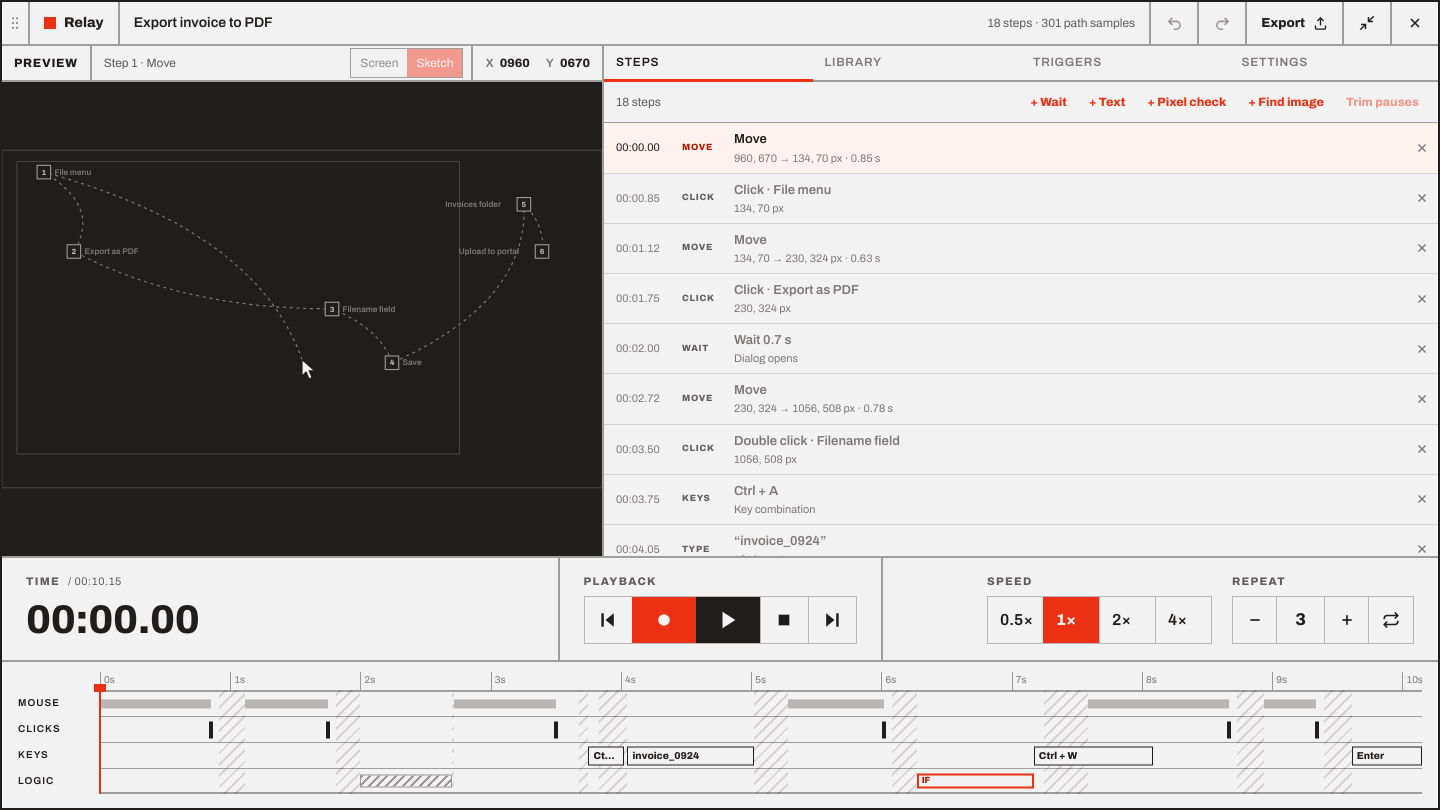
Test: Widget › switches between expanded and compact
Click the button named "Compact player".
click(1366, 23)  # box [1342,2,1390,44]
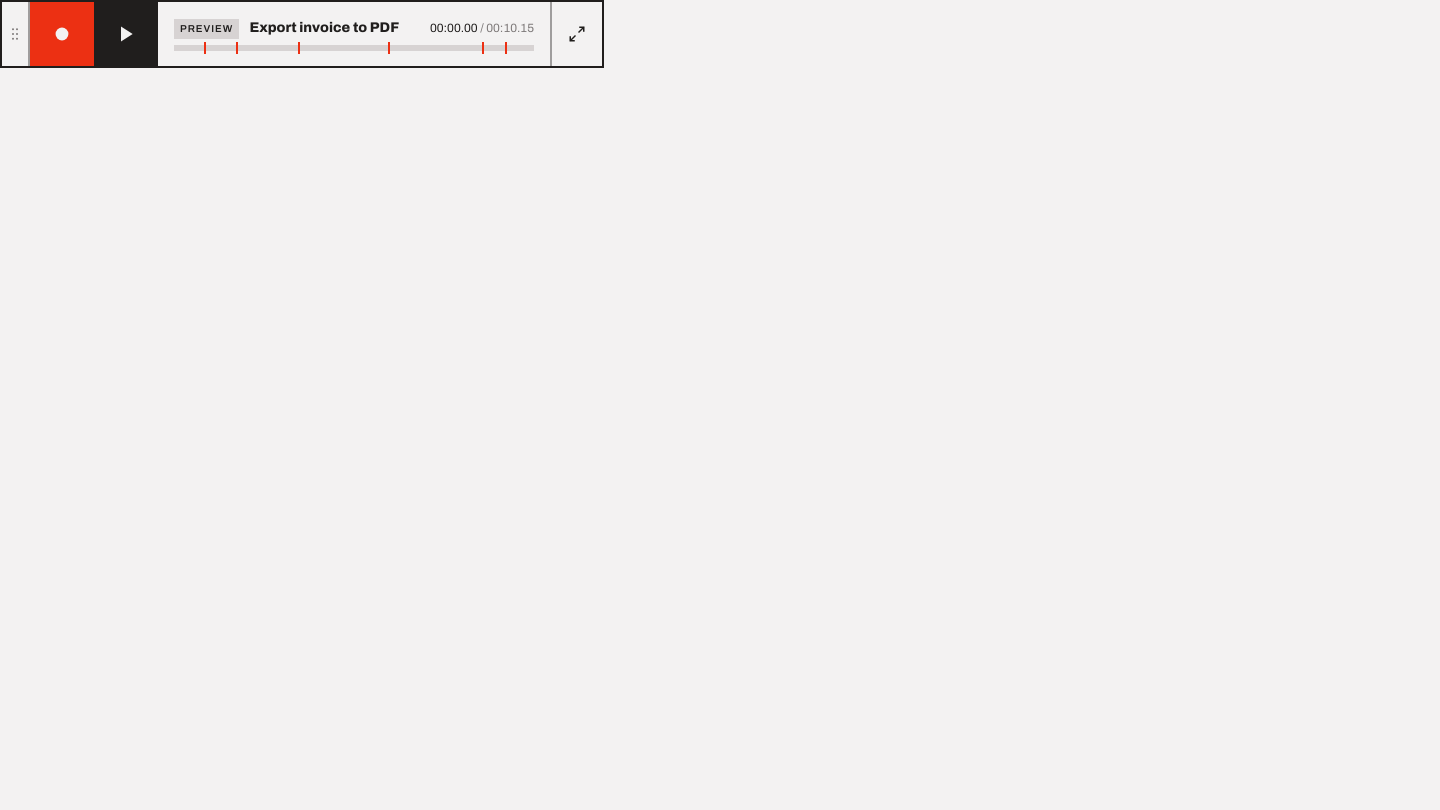
Check: the element with class "compact" is shown, box [2,2,602,66]
Click the button named "Expand".
click(576, 34)  # box [550,2,602,66]
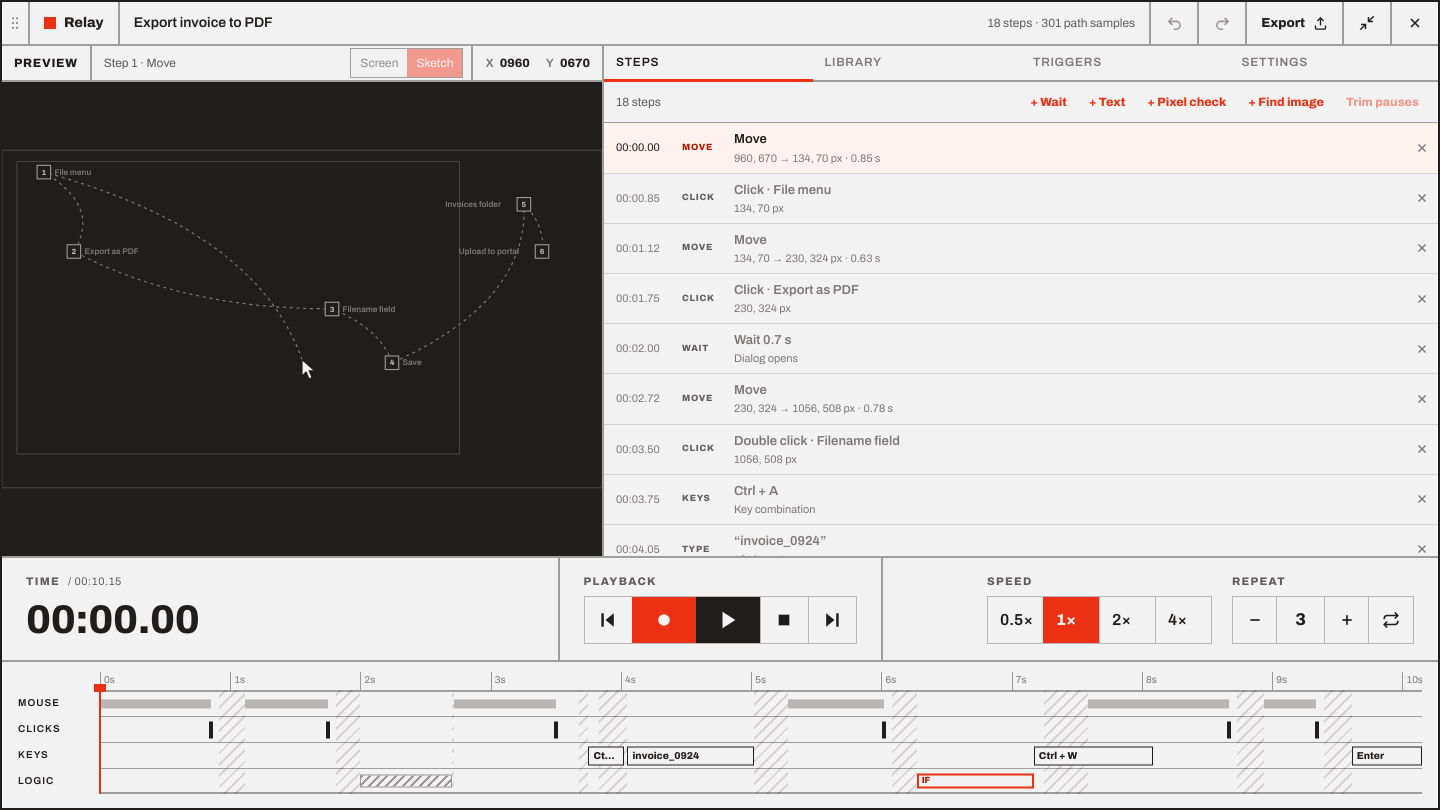
Check: the element with class "expanded" is shown
